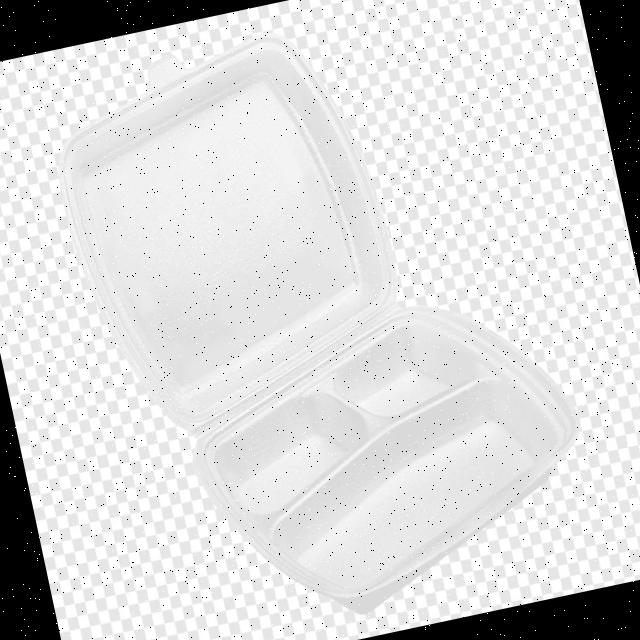styrofoam: (36, 0, 610, 640)
